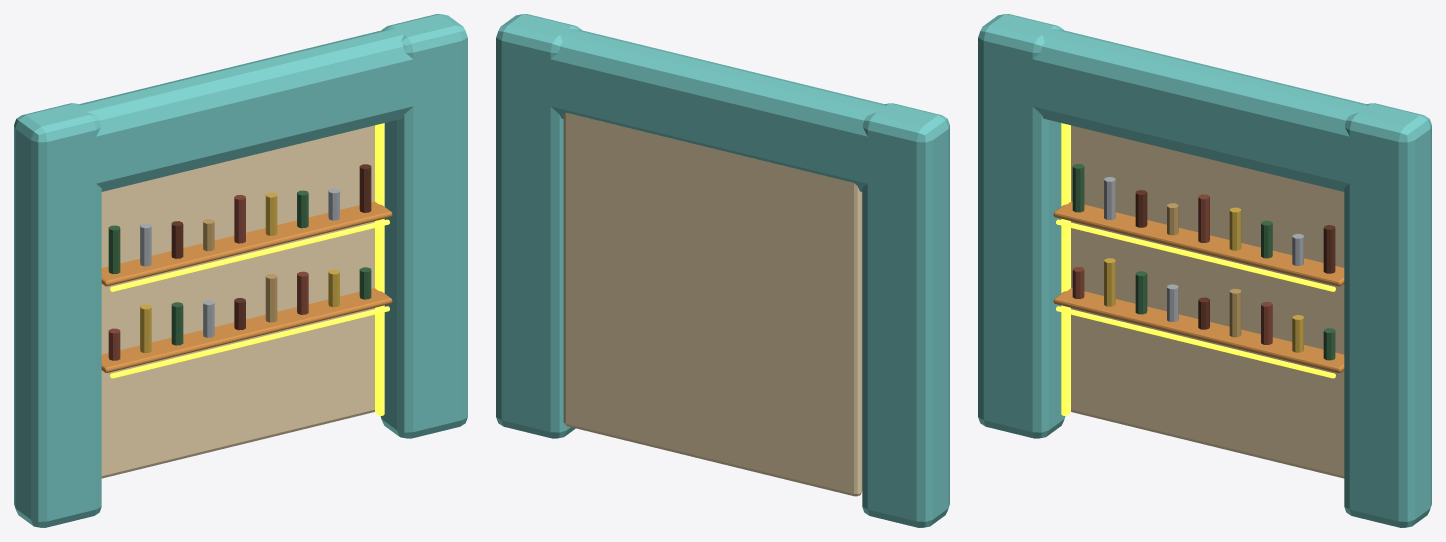
File: cafe_alcove.glb
3 renders of one model, left to right at view 1: azimuth 30°, elevation 25°; view 2: azimuth 150°, elevation 25°; view 3: azimuth 330°, elevation 25°, orthographic.
Parts seen in each view (by area): view 1: Cube.001; view 2: Cube.001; view 3: Cube.001.
Part boxes in pixels (box(x1,y1,x2,y2)): Cube.001: box(14, 14, 467, 527); Cube.001: box(496, 14, 949, 527); Cube.001: box(978, 14, 1431, 527).
Bounding box in the file's own units: 5 × 4.4 × 0.55.
